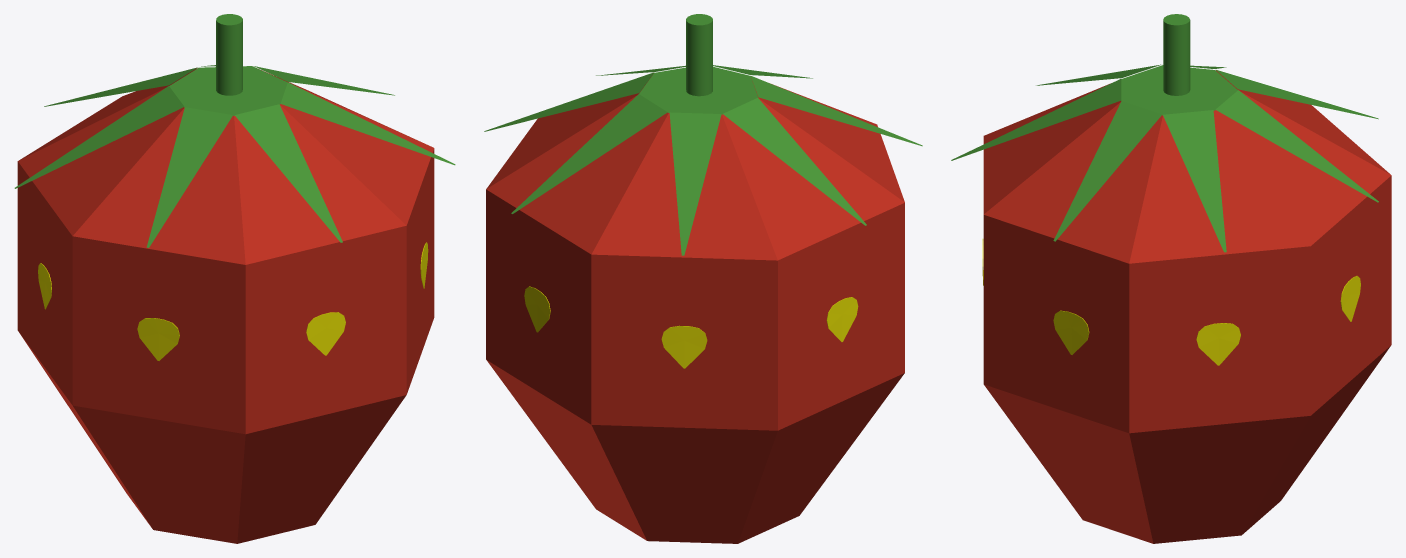
File: fresa.fbx
The picture shows the model from 3 angles, left to right: view 1: azimuth 30°, elevation 25°; view 2: azimuth 150°, elevation 25°; view 3: azimuth 270°, elevation 25°; orthographic projection.
Visible parts, largest first — view 1: Fresa; view 2: Fresa; view 3: Fresa.
Part boxes in pixels (x1=…): Fresa: x1=14, y1=14, x2=455, y2=543; Fresa: x1=484, y1=14, x2=922, y2=543; Fresa: x1=951, y1=14, x2=1391, y2=543.
Size of the model in its own units: 175 by 219 by 175.
